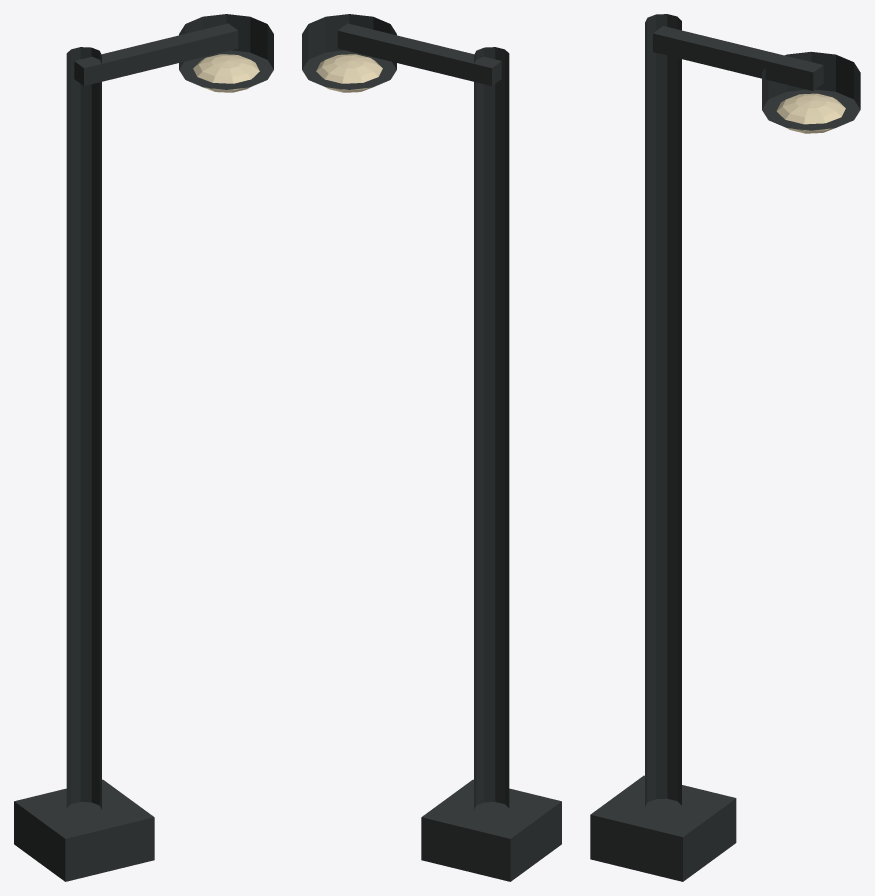
Rendered from Prop_Streetlight.obj.
3 views of the same model, side by side, from view 1: azimuth 30°, elevation 25°; view 2: azimuth 150°, elevation 25°; view 3: azimuth 330°, elevation 25° (orthographic). The views are drawn at different scales.
Parts seen in each view (by area): view 1: Pole, Base, Arm, LampHousing, LampGlass; view 2: Pole, Base, Arm, LampHousing, LampGlass; view 3: Pole, Base, Arm, LampHousing, LampGlass.
Part boxes in pixels (x1,y1,x2,y2): Pole: [66, 47, 101, 809]; Base: [14, 779, 154, 881]; Arm: [74, 23, 238, 85]; LampHousing: [179, 14, 273, 89]; LampGlass: [193, 54, 259, 92]; Pole: [474, 47, 509, 809]; Base: [421, 779, 561, 881]; Arm: [337, 23, 501, 85]; LampHousing: [302, 14, 396, 89]; LampGlass: [316, 54, 382, 92]; Pole: [645, 14, 681, 806]; Base: [590, 775, 736, 881]; Arm: [653, 26, 823, 90]; LampHousing: [762, 51, 860, 130]; LampGlass: [776, 93, 845, 133].
Bounding box in the file's own units: 1.33 × 4.45 × 0.52.
